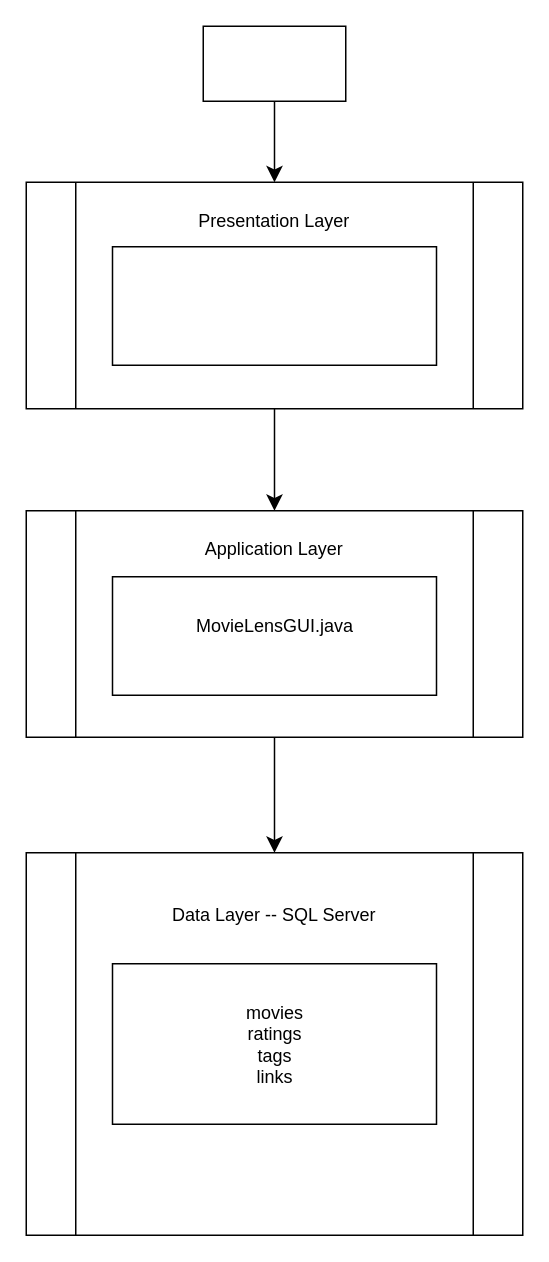
Image size: 549x1262. Some labels were removed from this diagram. Here are the shapes that lost their labels. From the top down, the box of each, then its label:
(202, 25, 346, 101): User
(111, 245, 436, 365): MovieLensGUI.java - Opens connections - Creates Interface
